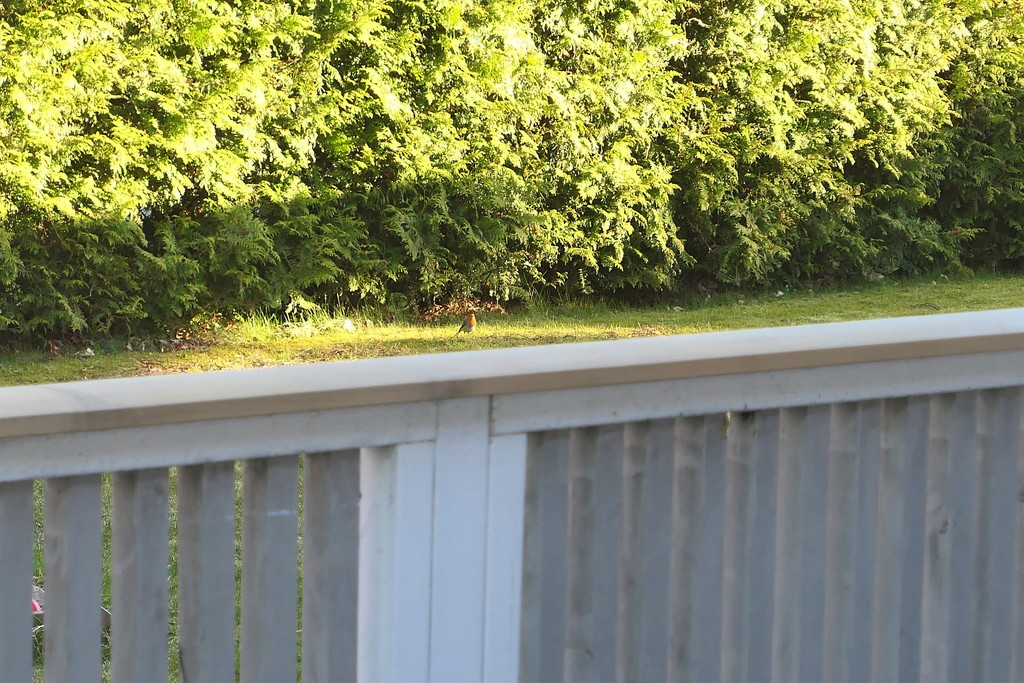Erithacus_Rubecula: (453, 313, 477, 337)
